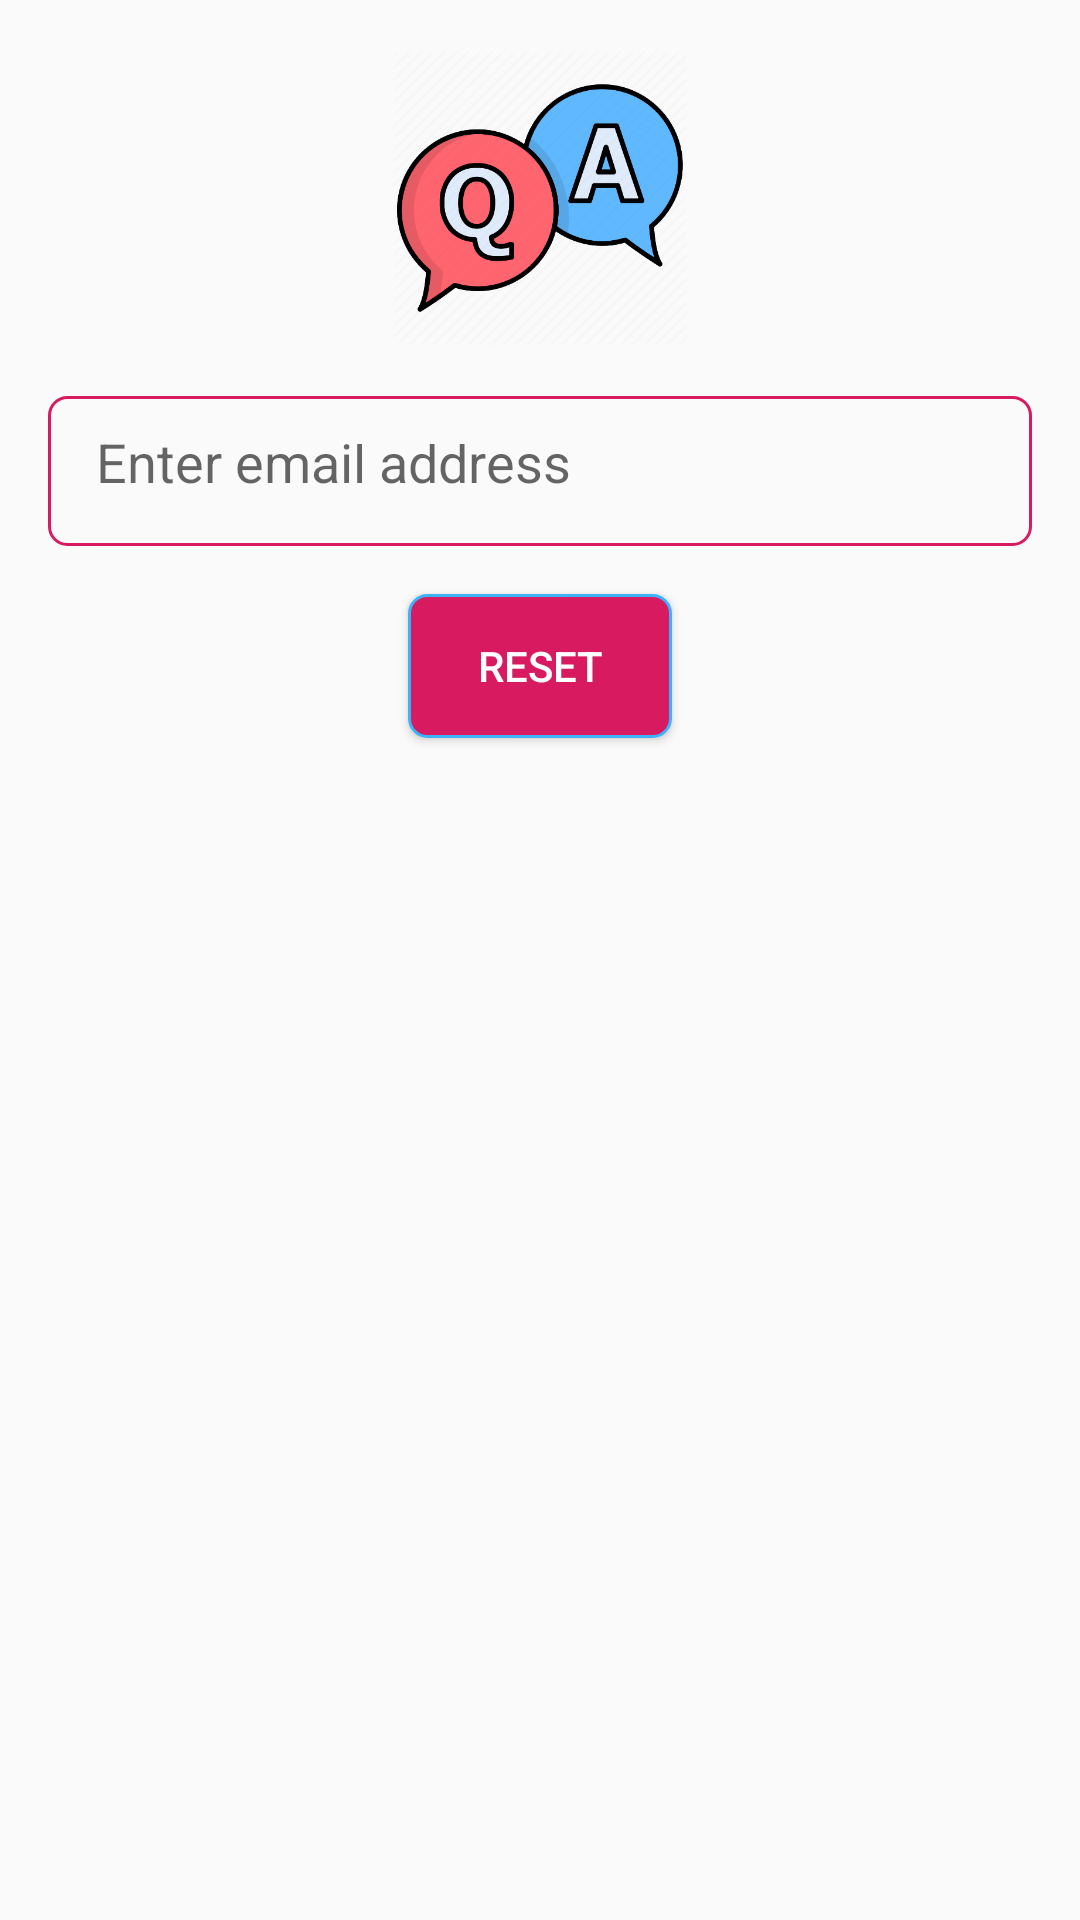

Icon bounding boxes for this 1080*1920 phone screenshot, format BBox(x1, y1, x2, y2):
qna: BBox(397, 84, 683, 312)
